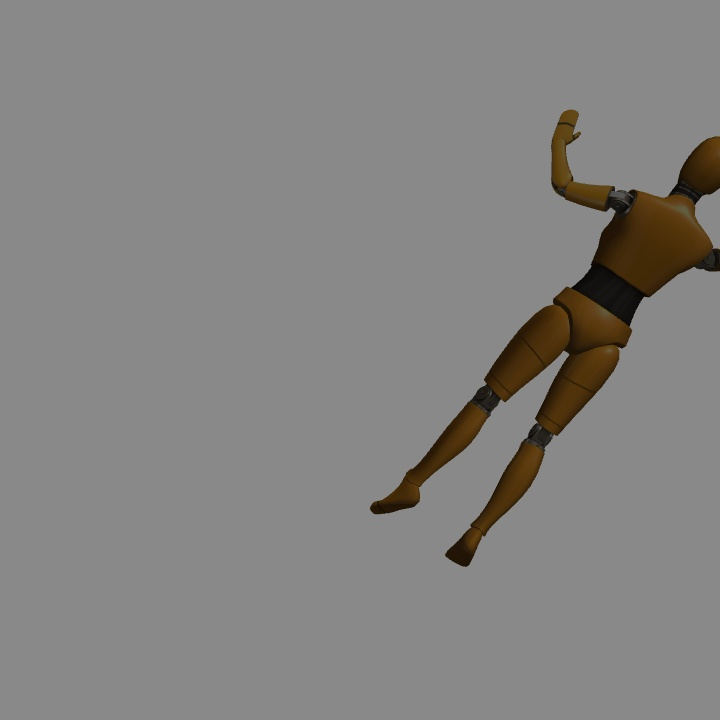victim: (378, 135, 720, 565)
